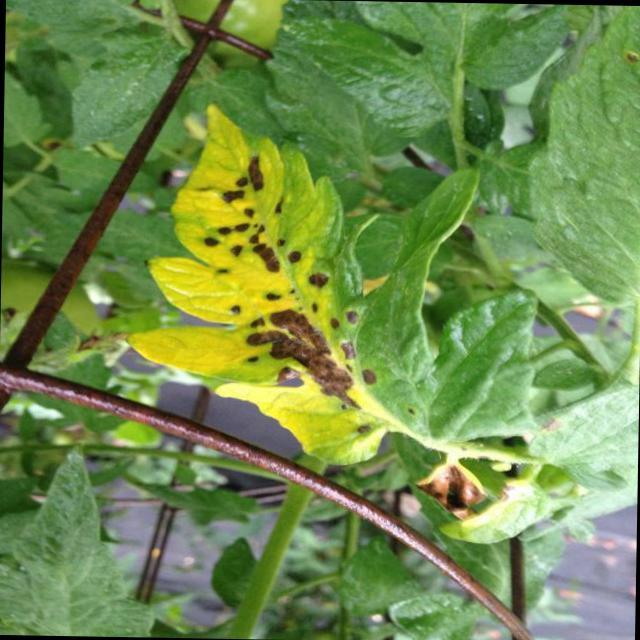Tomato leaf bacterial spot: (122, 122, 488, 467)
